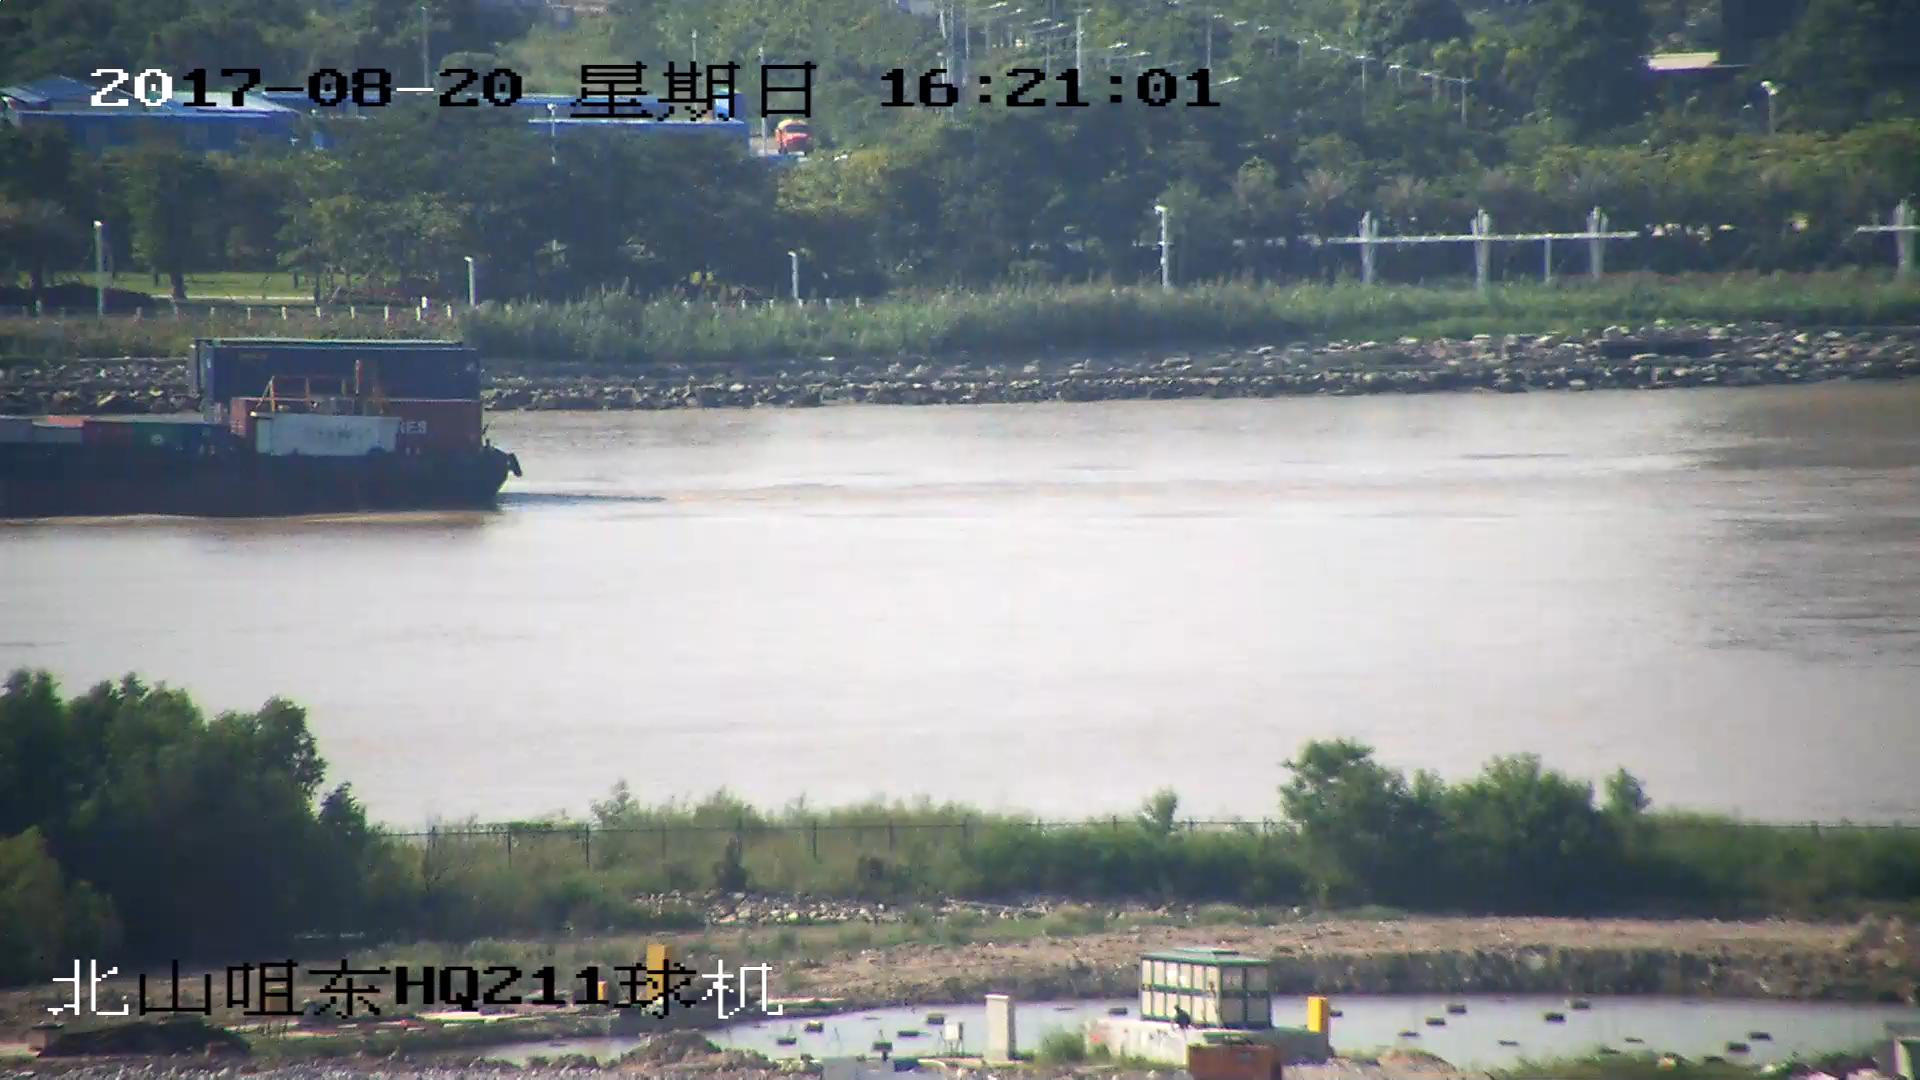container ship: (1, 340, 516, 510)
